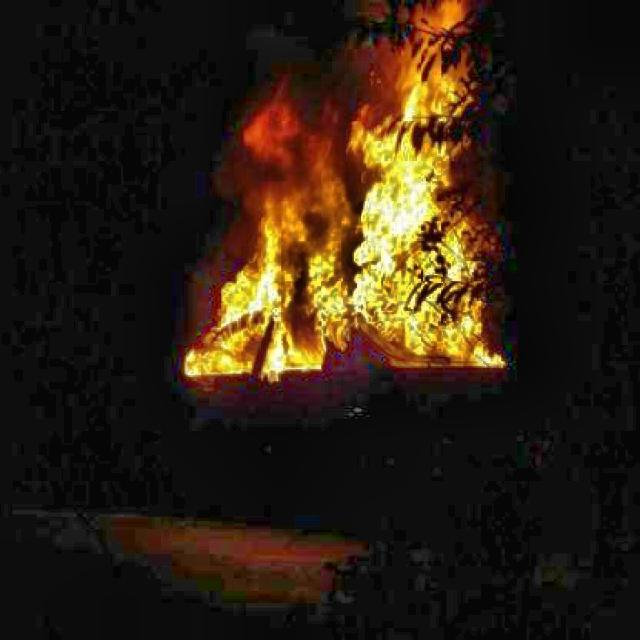Fire: (182, 0, 505, 377)
